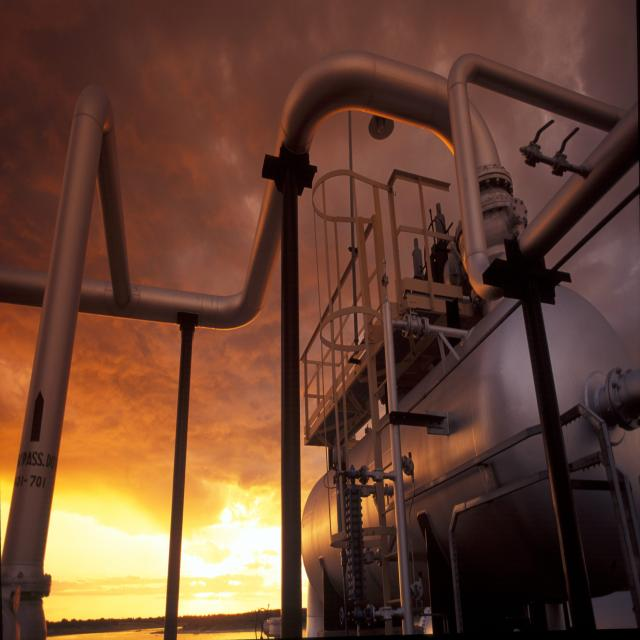gas: (0, 55, 449, 328), (2, 83, 112, 574), (449, 52, 630, 284), (505, 105, 640, 263), (94, 111, 132, 302)
